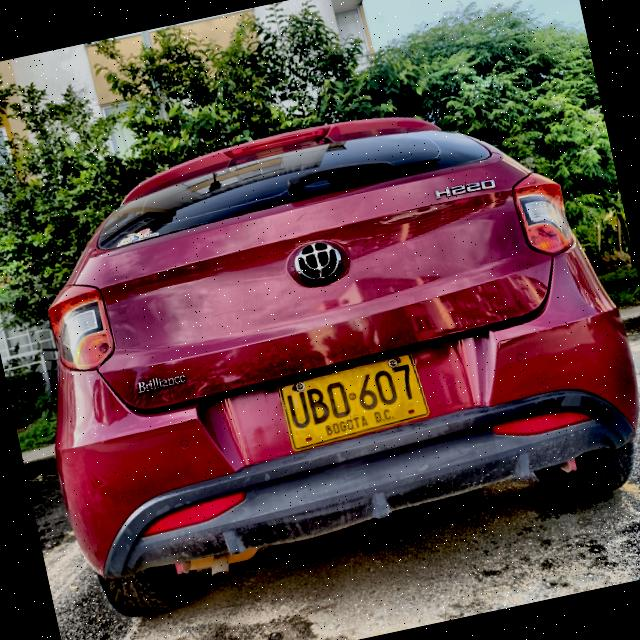0: (371, 367, 400, 407)
6: (352, 371, 379, 412)
7: (390, 362, 420, 402)
B: (305, 384, 333, 426)
O: (324, 379, 352, 419)
U: (285, 390, 312, 430)
